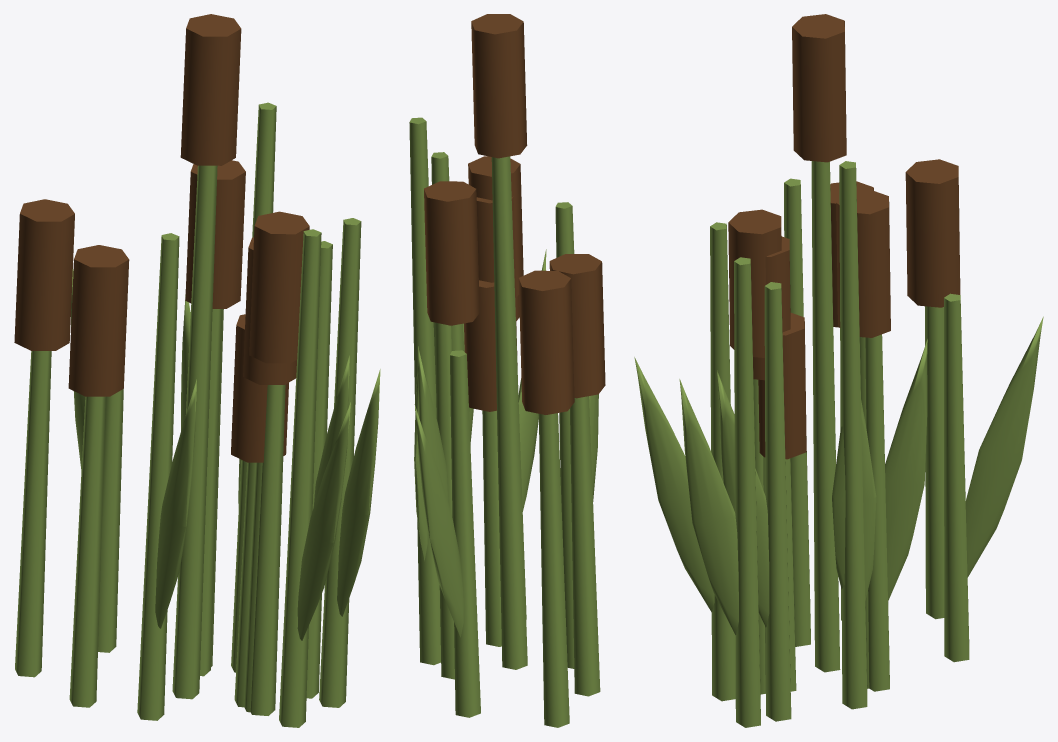
Rendered from Reeds.glb.
3 views of the same model, side by side, from view 1: azimuth 30°, elevation 25°; view 2: azimuth 150°, elevation 25°; view 3: azimuth 270°, elevation 25° (orthographic). The views are drawn at different scales.
Parts seen in each view (by area): view 1: Sway; view 2: Sway; view 3: Sway.
Boxes of the visible parts, x1,y1,x2,y2 form: Sway: (14, 14, 380, 727); Sway: (409, 14, 605, 727); Sway: (634, 14, 1043, 727).
Size of the model in its own units: 1.19 by 3.13 by 1.77.
Materials: 1 (1 with a texture image).
